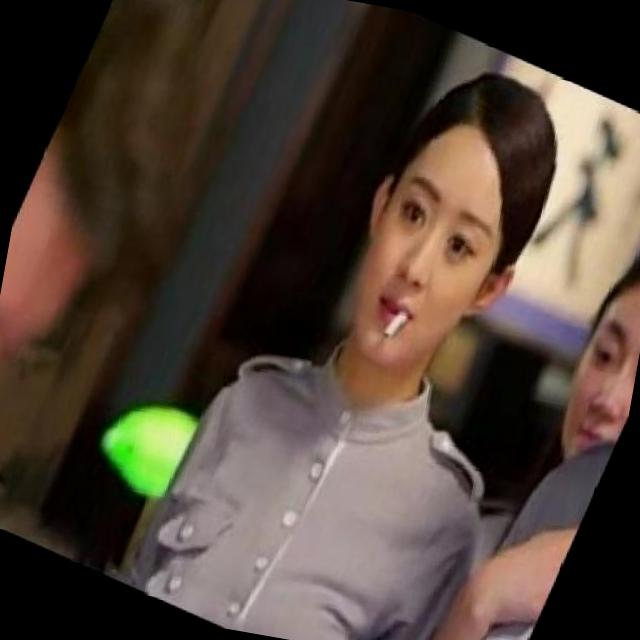cigarette: (379, 304, 414, 346)
